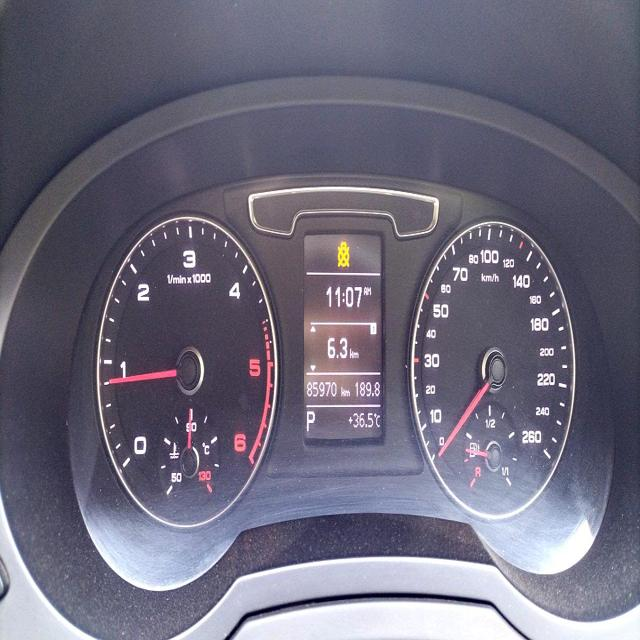odometer: (305, 377, 339, 400)
